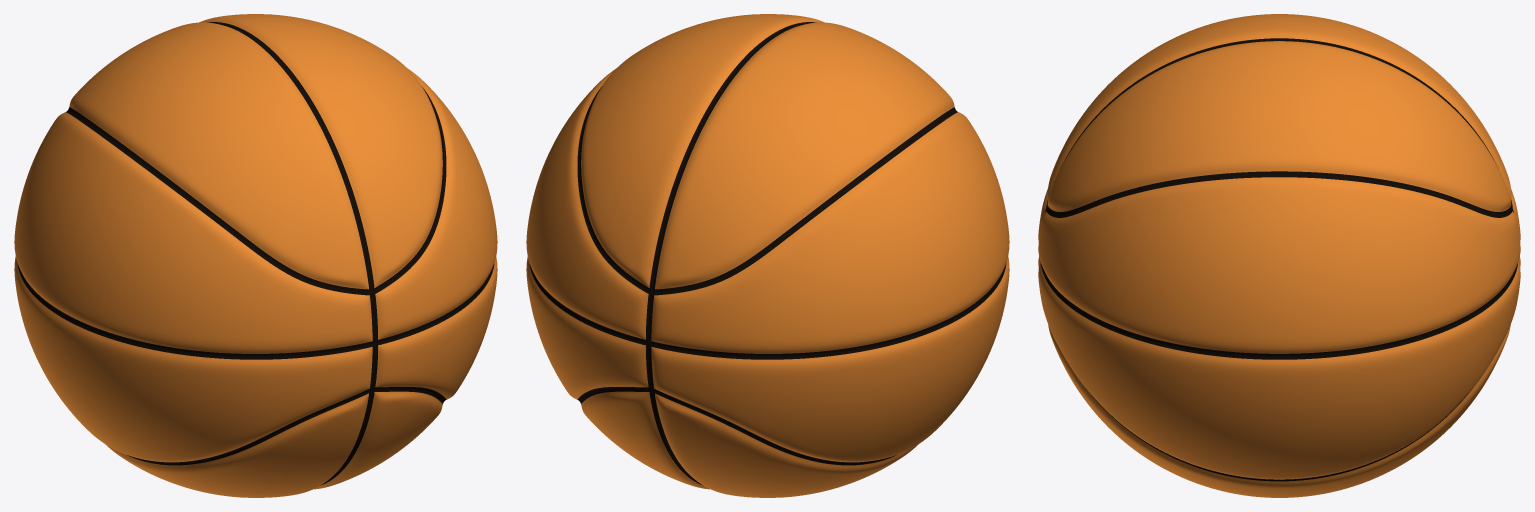
File: basketball.glb
3 views of the same model, side by side, from view 1: azimuth 30°, elevation 25°; view 2: azimuth 150°, elevation 25°; view 3: azimuth 270°, elevation 25° (orthographic).
Visible parts, largest first — view 1: Cube; view 2: Cube; view 3: Cube.
Boxes of the visible parts, left/top/right/bottom form: Cube: left=14, top=14, right=497, bottom=497; Cube: left=526, top=14, right=1009, bottom=497; Cube: left=1038, top=14, right=1520, bottom=497.
Size of the model in its own units: 2.54 by 2.54 by 2.53.
